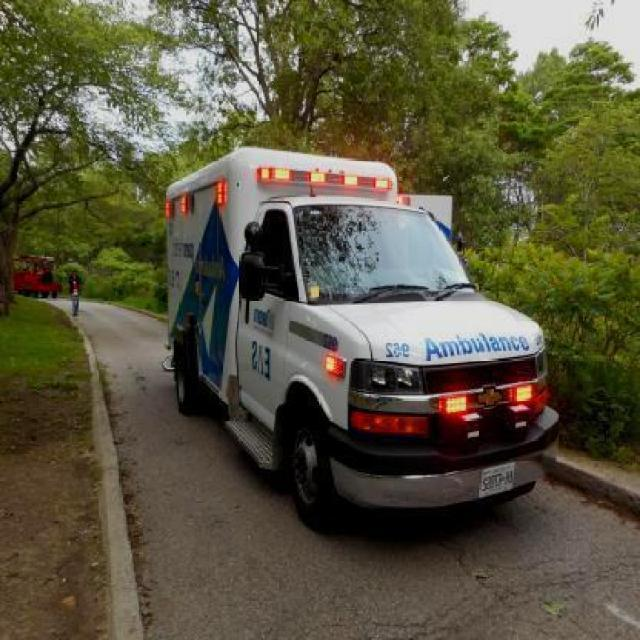emergency: (162, 144, 562, 528)
